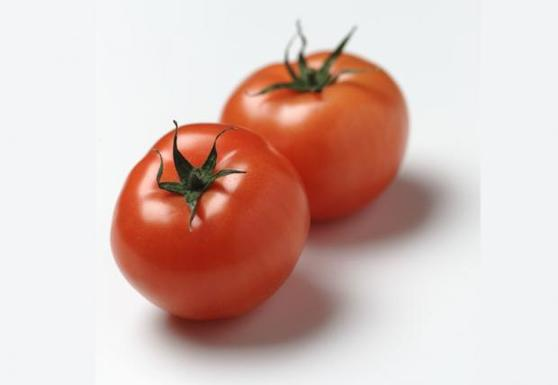tomato: (107, 116, 310, 319), (226, 39, 414, 215)
